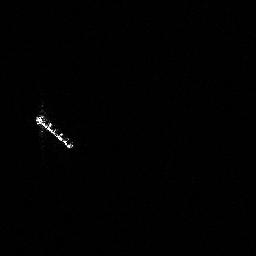ship: (33, 103, 76, 152)
